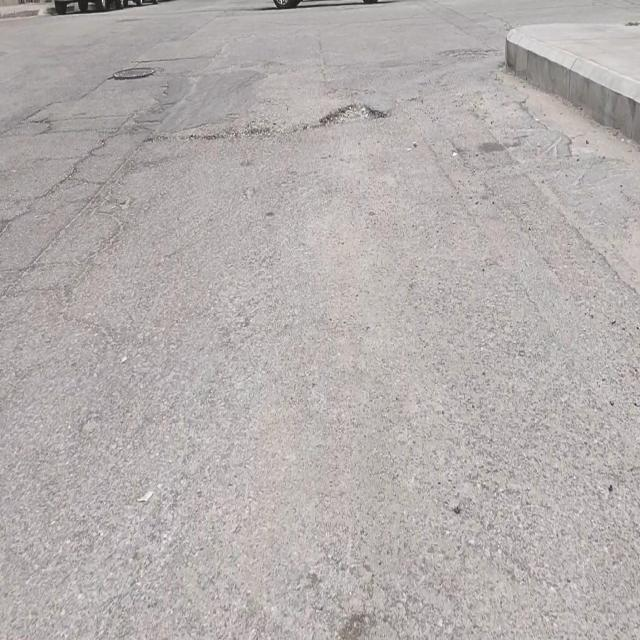Potholes: (319, 103, 388, 126)
